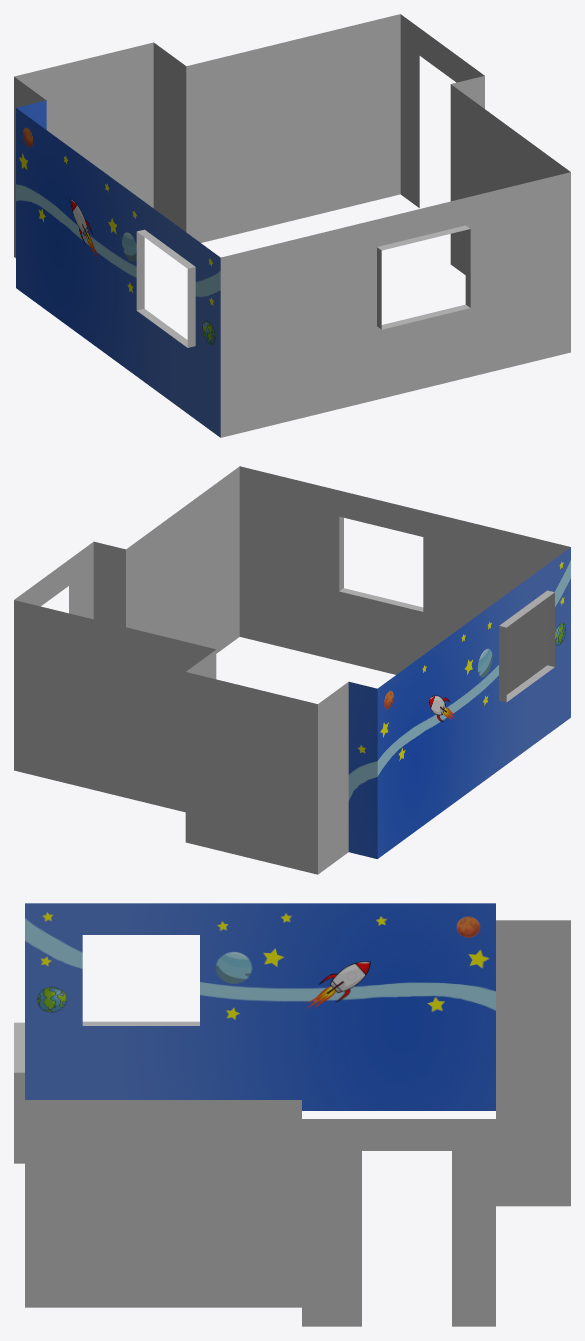
The model's file is room.fbx.
The picture shows the model from 3 angles, top to bottom: view 1: azimuth 30°, elevation 25°; view 2: azimuth 150°, elevation 25°; view 3: azimuth 270°, elevation 25°; orthographic projection. The views are drawn at different scales.
Visible parts, largest first — view 1: room; view 2: room; view 3: room.
Boxes of the visible parts, bbox=[...] form: room: bbox=[14, 14, 570, 437]; room: bbox=[14, 466, 570, 874]; room: bbox=[14, 903, 570, 1326].
Bounding box in the file's own units: 554 × 243 × 592.
